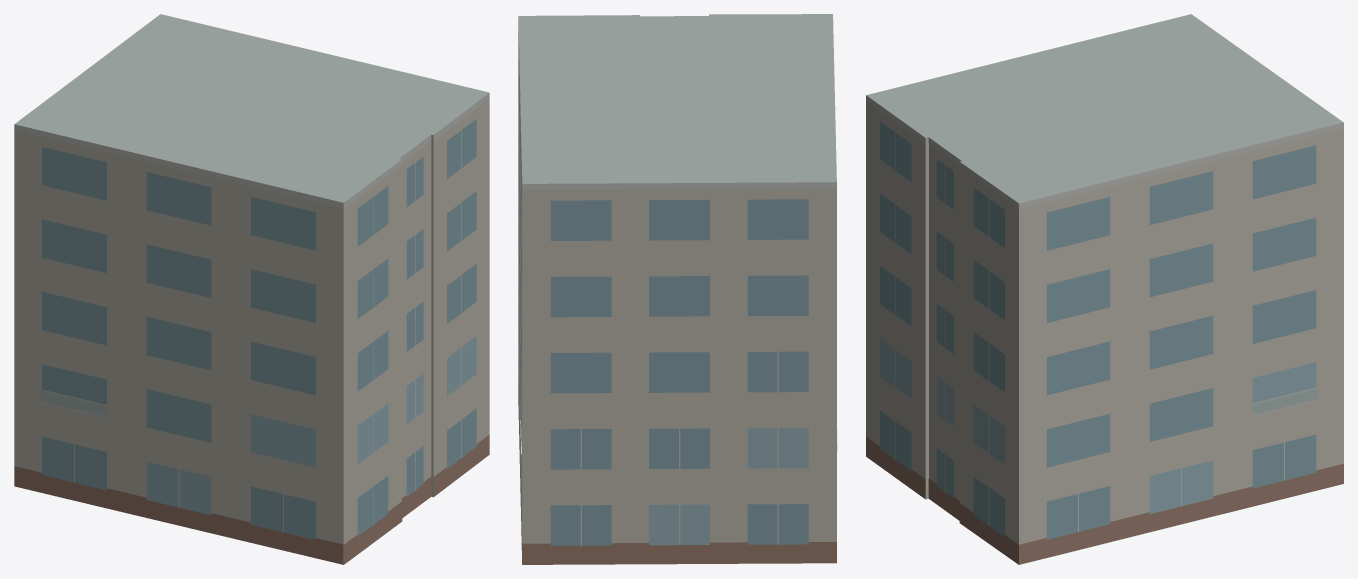
The model's file is survey-upis-32765164.glb.
3 views of the same model, side by side, from view 1: azimuth 30°, elevation 25°; view 2: azimuth 150°, elevation 25°; view 3: azimuth 270°, elevation 25° (orthographic). The views are drawn at different scales.
Parts seen in each view (by area): view 1: survey-upis-32765164.tmp; view 2: survey-upis-32765164.tmp; view 3: survey-upis-32765164.tmp.
Boxes of the visible parts, <box> form: survey-upis-32765164.tmp: <box>14,14,489,564</box>; survey-upis-32765164.tmp: <box>518,14,837,564</box>; survey-upis-32765164.tmp: <box>866,14,1343,564</box>.
Size of the model in its own units: 17.16 by 15.25 by 18.28.
